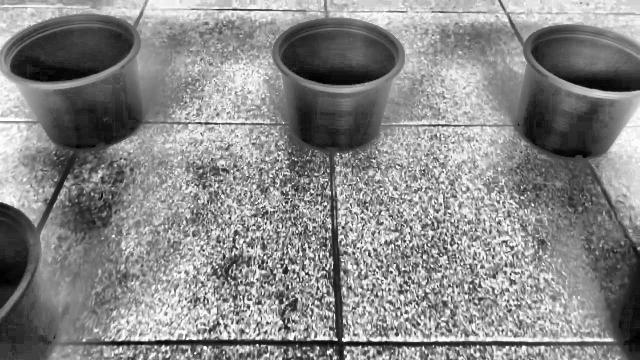pot: (0, 15, 144, 149), (274, 18, 405, 150), (517, 25, 640, 159), (0, 203, 58, 360)
